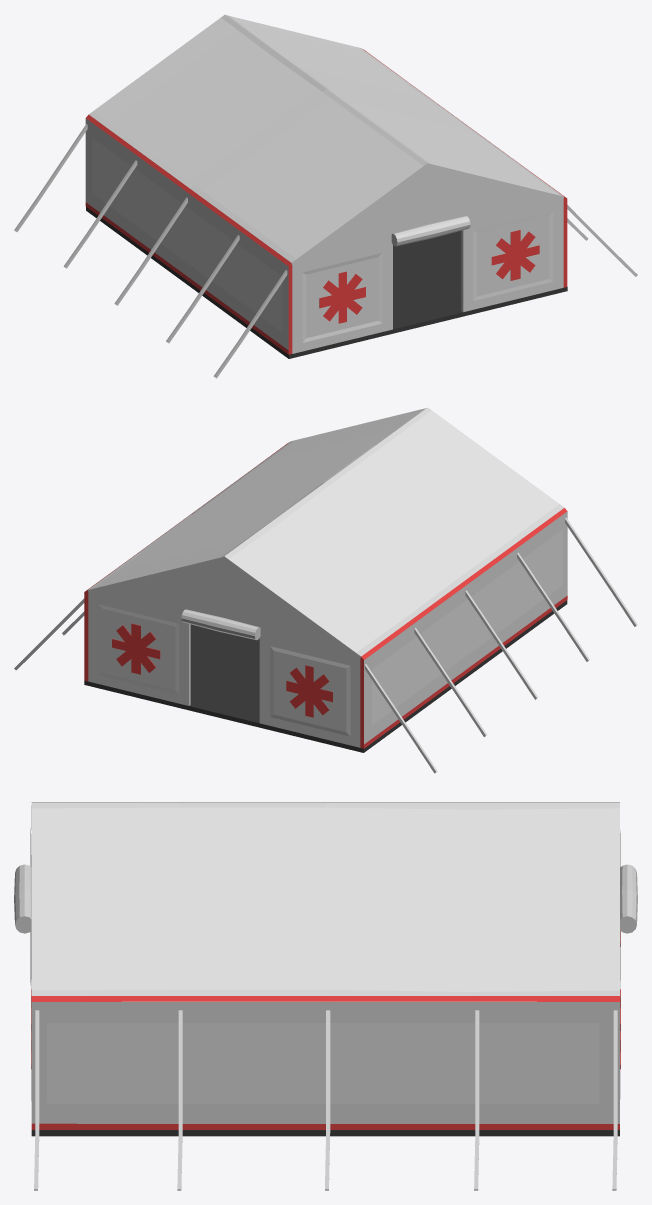
File: tent.glb
The picture shows the model from 3 angles, top to bottom: view 1: azimuth 30°, elevation 25°; view 2: azimuth 150°, elevation 25°; view 3: azimuth 270°, elevation 25°; orthographic projection. The views are drawn at different scales.
Parts seen in each view (by area): view 1: Medical Tent; view 2: Medical Tent; view 3: Medical Tent.
Boxes of the visible parts, <box> form: Medical Tent: <box>14,14,637,378</box>; Medical Tent: <box>14,407,637,773</box>; Medical Tent: <box>14,802,637,1190</box>.
Size of the model in its own units: 1098 by 412 by 970.
